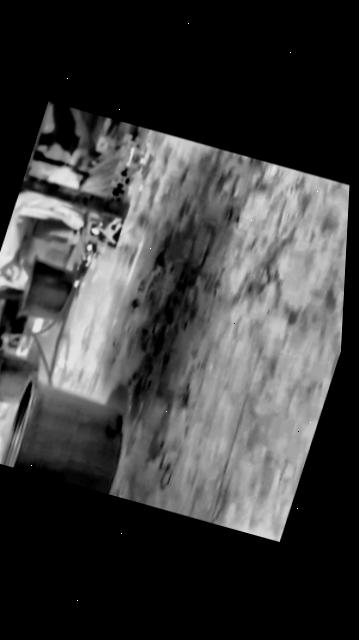pot: (0, 372, 137, 494), (16, 258, 72, 319)
